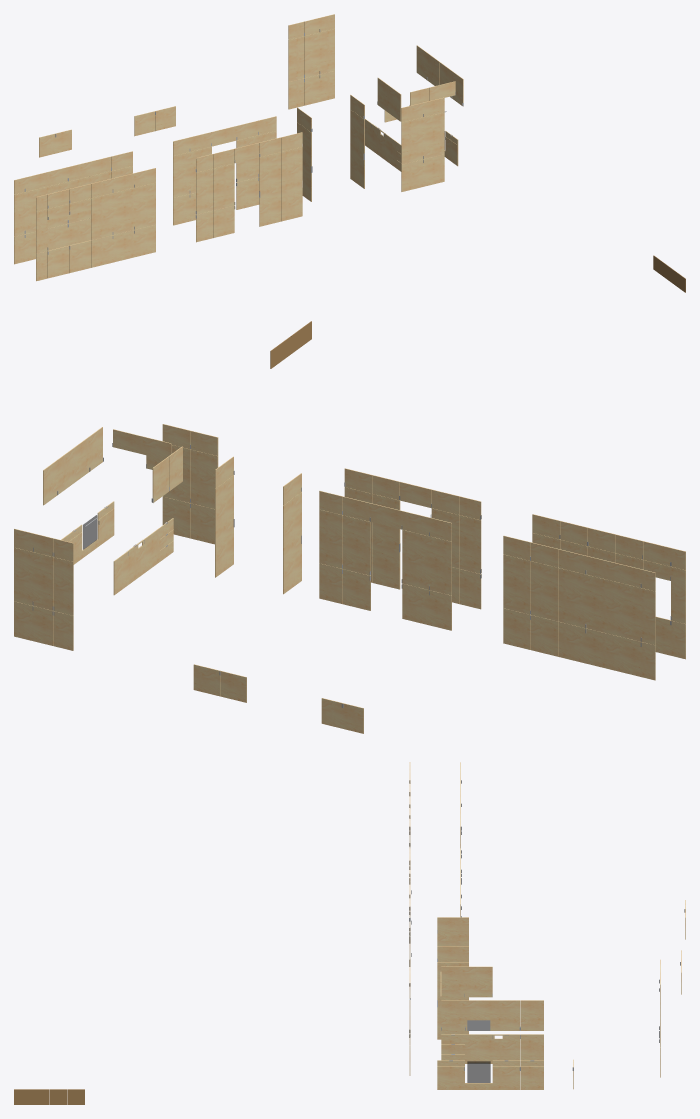
Rendered from schraenke.glb.
3 renders of one model, top to bottom at view 1: azimuth 30°, elevation 25°; view 2: azimuth 150°, elevation 25°; view 3: azimuth 270°, elevation 25°, orthographic. The views are drawn at different scales.
Parts seen in each view (by area): view 1: schrank|-90 (×22), schrank|90 (×12), schrank|95 (×3), schrank|-95; view 2: schrank|90 (×23), schrank|-90 (×12), schrank|95 (×6), schrank|-95 (×2); view 3: schrank|95 (×6), schrank|-95 (×3), schrank|90 (×3), schrank|-90 (×2), klappe|z|-85|50, klappe|z|85|242.
Part boxes in pixels (x1=…): schrank|-90 (×22): x1=36, y1=29, x2=334, y2=278; schrank|90 (×12): x1=14, y1=111, x2=446, y2=250; schrank|95 (×3): x1=134, y1=106, x2=364, y2=201; schrank|-95: x1=39, y1=129, x2=71, y2=157; schrank|90 (×23): x1=162, y1=445, x2=655, y2=676; schrank|-90 (×12): x1=14, y1=494, x2=685, y2=650; schrank|95 (×6): x1=112, y1=429, x2=431, y2=702; schrank|-95 (×2): x1=151, y1=456, x2=363, y2=733; schrank|95 (×6): x1=437, y1=917, x2=543, y2=1039; schrank|-95 (×3): x1=441, y1=966, x2=520, y2=1030; schrank|90 (×3): x1=437, y1=1034, x2=543, y2=1089; schrank|-90 (×2): x1=465, y1=1034, x2=543, y2=1089; klappe|z|-85|50: x1=492, y1=1034, x2=520, y2=1060; klappe|z|85|242: x1=467, y1=1061, x2=490, y2=1082.
Size of the model in its own units: 15.25 by 2.6 by 17.
3 materials, 1 textured.
